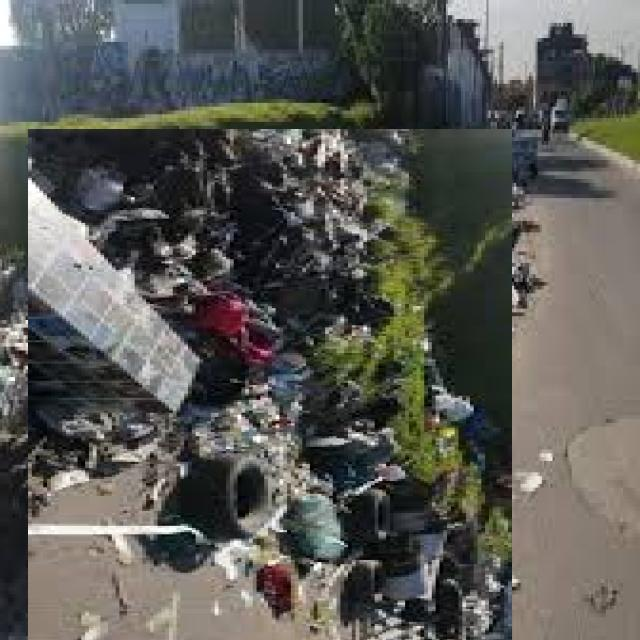garbage: (14, 142, 526, 640)
